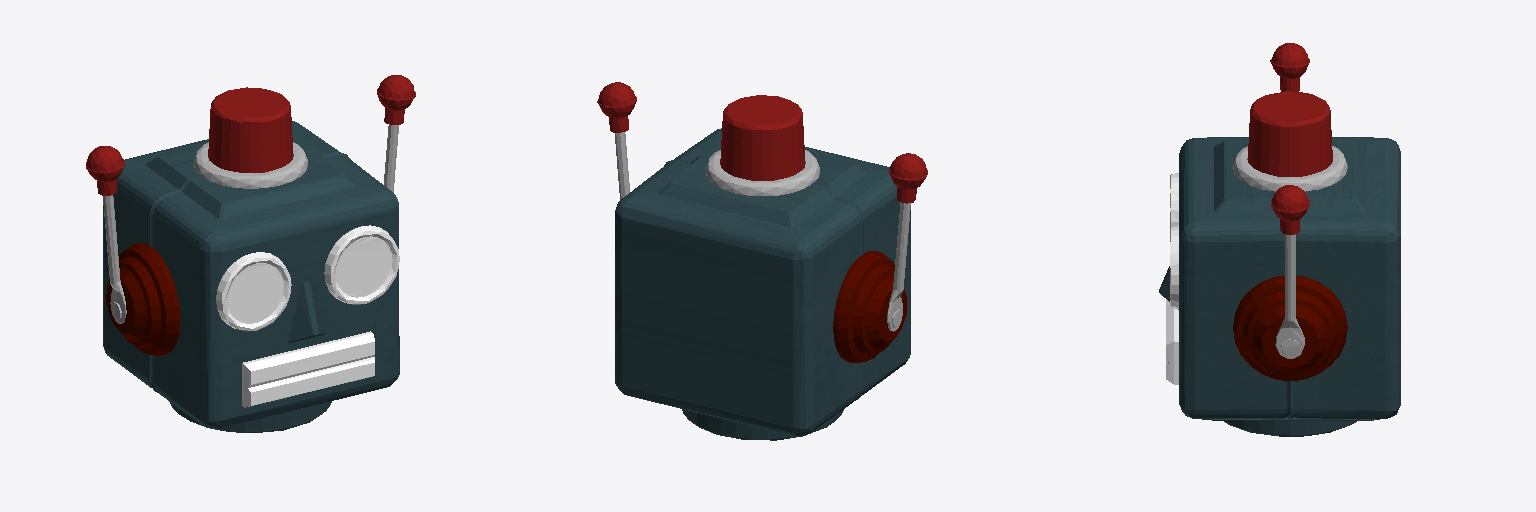
3 renders of one model, left to right at view 1: azimuth 30°, elevation 25°; view 2: azimuth 150°, elevation 25°; view 3: azimuth 270°, elevation 25°, orthographic.
Visible parts, largest first — view 1: cabeza_11696_robot_v1_L3; view 2: cabeza_11696_robot_v1_L3; view 3: cabeza_11696_robot_v1_L3.
Boxes of the visible parts, x1,y1,x2,y2 form: cabeza_11696_robot_v1_L3: [86, 75, 415, 432]; cabeza_11696_robot_v1_L3: [597, 82, 927, 440]; cabeza_11696_robot_v1_L3: [1159, 43, 1400, 436].
Bounding box in the file's own units: 0.1092 × 0.0956 × 0.0705.
Materials: 5 (1 with a texture image).